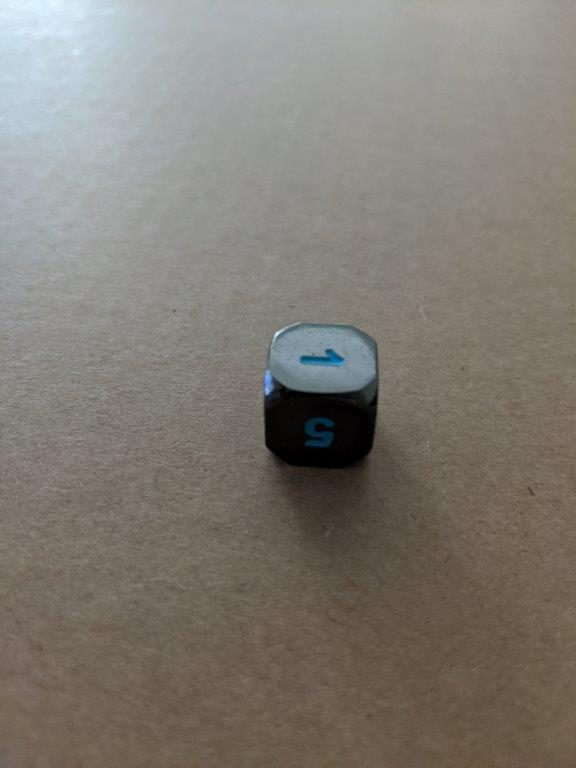d6-1: (262, 322, 379, 470)
